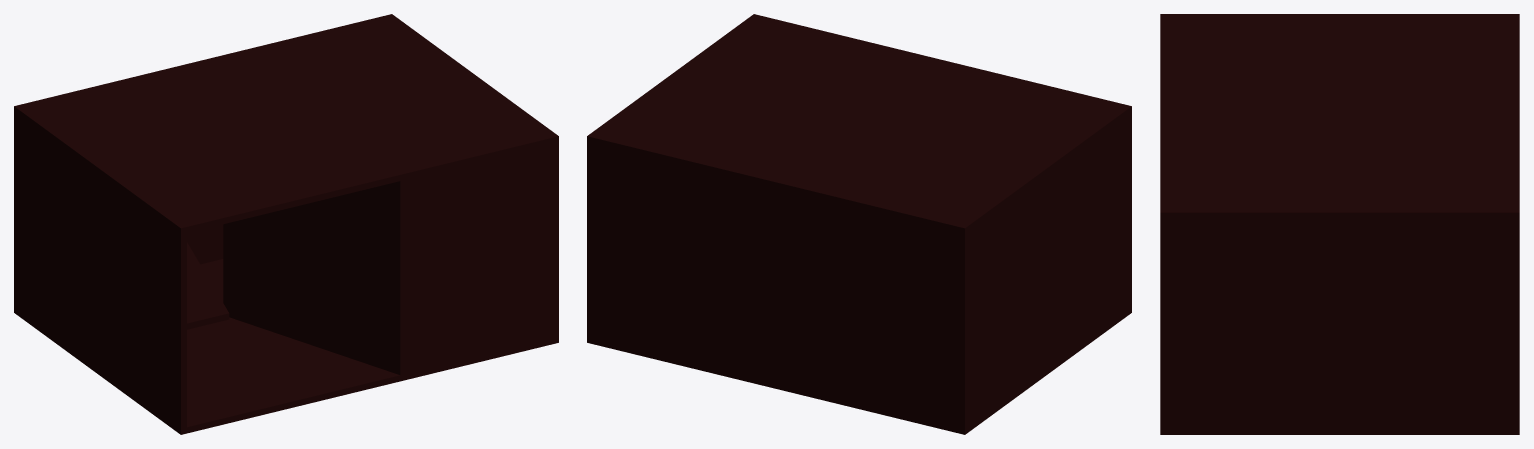
The model's file is mth.glb.
3 renders of one model, left to right at view 1: azimuth 30°, elevation 25°; view 2: azimuth 150°, elevation 25°; view 3: azimuth 270°, elevation 25°, orthographic. The views are drawn at different scales.
Visible parts, largest first — view 1: imagetostl_mesh63, imagetostl_mesh6, imagetostl_mesh49, imagetostl_mesh0, imagetostl_mesh55, imagetostl_mesh42, imagetostl_mesh64, imagetostl_mesh67, imagetostl_mesh18, imagetostl_mesh52, imagetostl_mesh53, imagetostl_mesh5 (+4 smaller); view 2: imagetostl_mesh9, imagetostl_mesh63, imagetostl_mesh6, imagetostl_mesh61, imagetostl_mesh59, imagetostl_mesh3, imagetostl_mesh13, imagetostl_mesh58, imagetostl_mesh62; view 3: imagetostl_mesh14, imagetostl_mesh63, imagetostl_mesh60, imagetostl_mesh69.
Part boxes in pixels (bbox=[...]): imagetostl_mesh63: bbox=[14, 14, 558, 228]; imagetostl_mesh6: bbox=[14, 112, 180, 428]; imagetostl_mesh49: bbox=[406, 144, 552, 373]; imagetostl_mesh0: bbox=[187, 259, 399, 427]; imagetostl_mesh55: bbox=[223, 182, 394, 373]; imagetostl_mesh42: bbox=[258, 195, 371, 322]; imagetostl_mesh64: bbox=[181, 136, 558, 234]; imagetostl_mesh67: bbox=[181, 336, 558, 434]; imagetostl_mesh18: bbox=[187, 242, 228, 323]; imagetostl_mesh52: bbox=[400, 179, 406, 374]; imagetostl_mesh53: bbox=[394, 181, 400, 374]; imagetostl_mesh5: bbox=[181, 233, 186, 428]; imagetostl_mesh9: bbox=[593, 144, 958, 427]; imagetostl_mesh63: bbox=[587, 14, 1131, 228]; imagetostl_mesh6: bbox=[965, 112, 1131, 428]; imagetostl_mesh61: bbox=[587, 136, 964, 234]; imagetostl_mesh59: bbox=[587, 336, 964, 434]; imagetostl_mesh3: bbox=[959, 233, 964, 428]; imagetostl_mesh13: bbox=[587, 142, 592, 337]; imagetostl_mesh58: bbox=[965, 307, 1131, 434]; imagetostl_mesh62: bbox=[965, 106, 1131, 234]; imagetostl_mesh14: bbox=[1160, 219, 1519, 428]; imagetostl_mesh63: bbox=[1160, 14, 1519, 212]; imagetostl_mesh60: bbox=[1160, 212, 1519, 219]; imagetostl_mesh69: bbox=[1160, 428, 1519, 434].
Size of the model in its own units: 45.24 by 23.62 by 34.61.
